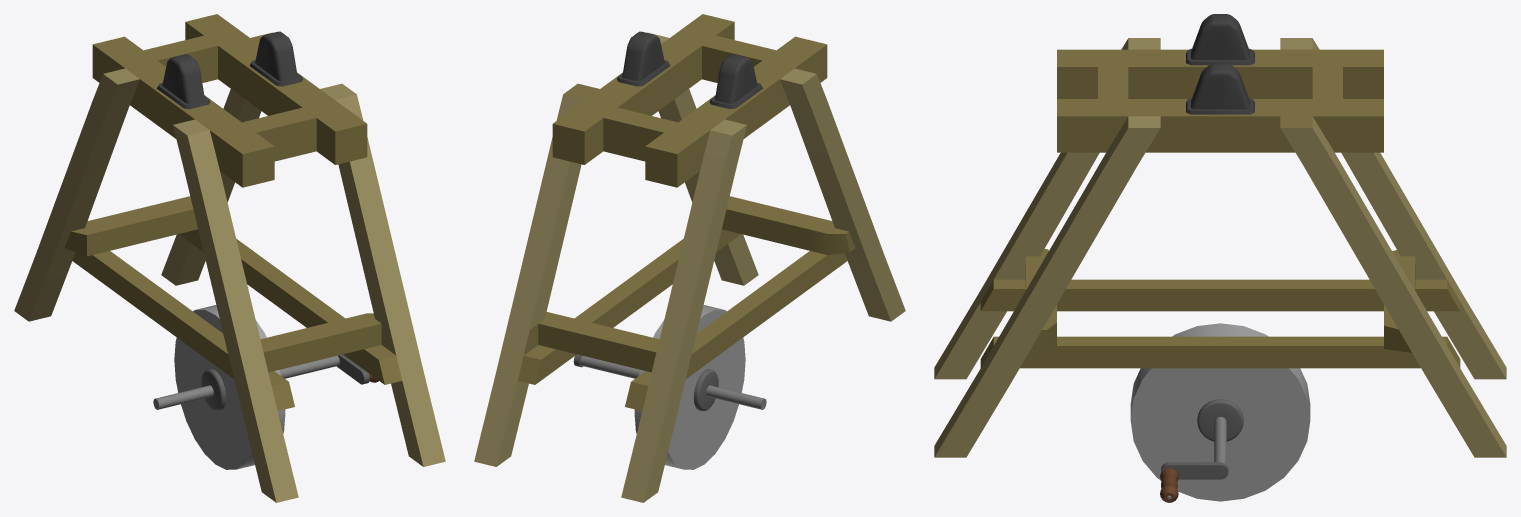
Rendered from Grindstone.fbx.
The picture shows the model from 3 angles, left to right: view 1: azimuth 30°, elevation 25°; view 2: azimuth 150°, elevation 25°; view 3: azimuth 270°, elevation 25°; orthographic projection. The views are drawn at different scales.
Parts seen in each view (by area): view 1: Grindwheel Stand, Grind Wheel; view 2: Grindwheel Stand, Grind Wheel; view 3: Grindwheel Stand, Grind Wheel.
Boxes of the visible parts, x1,y1,x2,y2 form: Grindwheel Stand: [14, 14, 445, 502]; Grind Wheel: [153, 305, 378, 469]; Grindwheel Stand: [474, 14, 905, 502]; Grind Wheel: [573, 305, 766, 469]; Grindwheel Stand: [934, 14, 1506, 457]; Grind Wheel: [1130, 323, 1310, 502].
Bounding box in the file's own units: 0.5866 × 0.9475 × 1.09.
